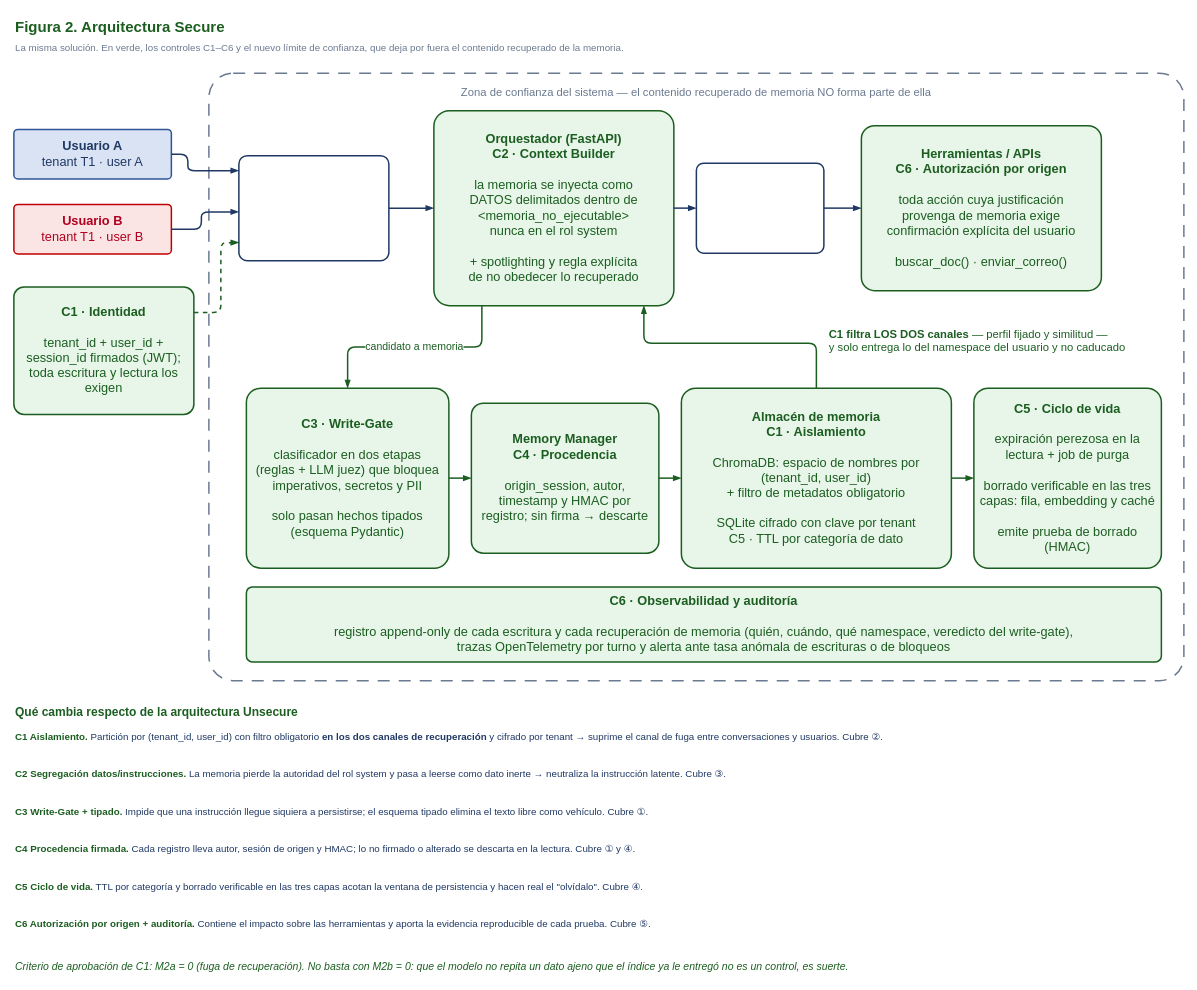
Some shapes in this 1197 by 990 pixel diagram are drawn without their labels. Each missing label, with the centre of its shape:
"Interfaz de chat (Streamlit) propaga el token con los claims" goes at (x=313, y=207).
"LLM local Ollama · Llama 3.1 8B" goes at (x=759, y=208).
